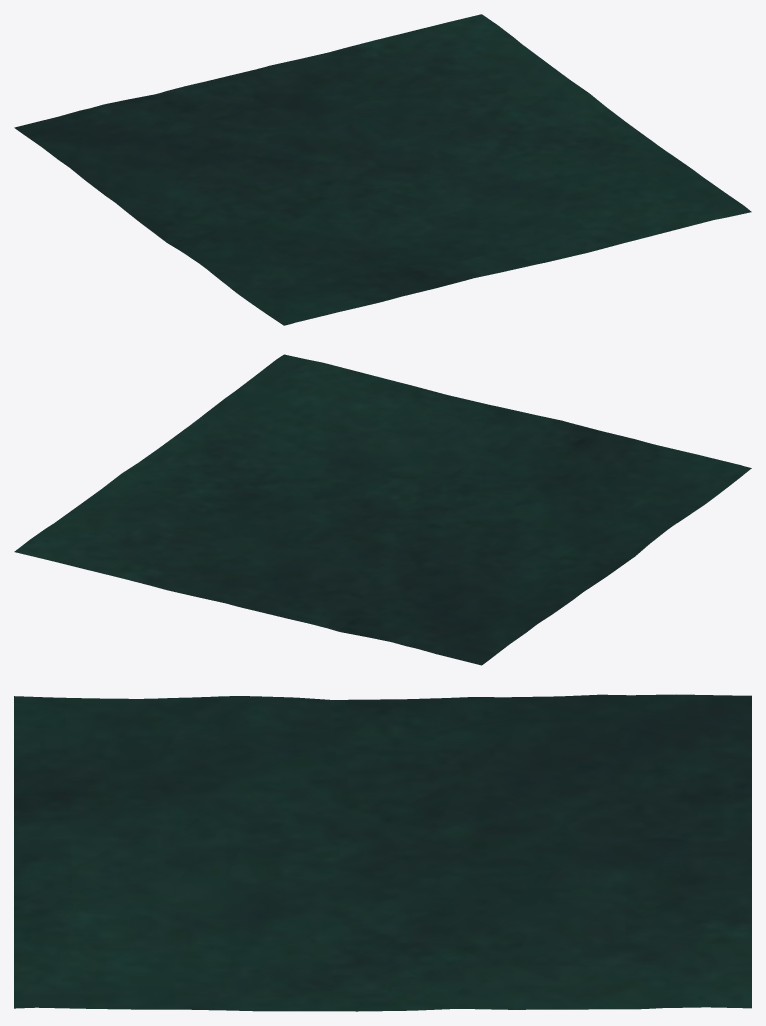
3 renders of one model, top to bottom at view 1: azimuth 30°, elevation 25°; view 2: azimuth 150°, elevation 25°; view 3: azimuth 270°, elevation 25°, orthographic. The views are drawn at different scales.
Size of the model in its own units: 52.22 by 0.7274 by 52.22.
Materials: 2 (2 with a texture image).
